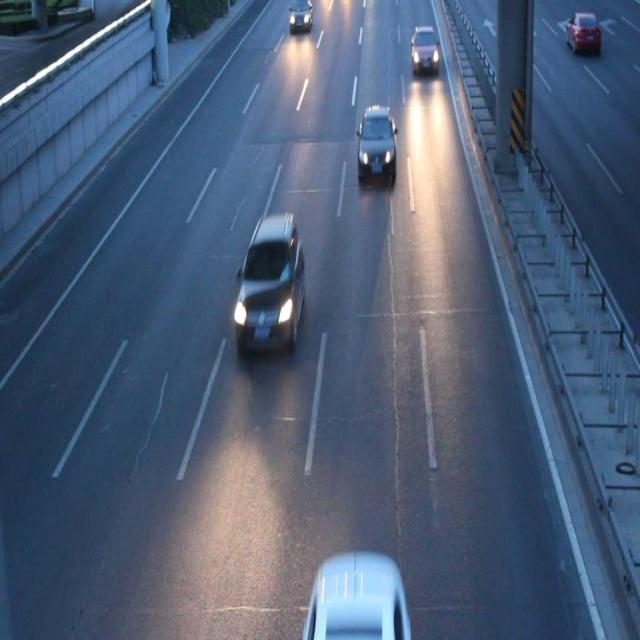car: (302, 552, 409, 640), (234, 213, 303, 349), (356, 106, 397, 182), (410, 24, 438, 76), (288, 1, 311, 33)
